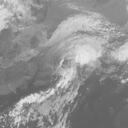cyclone: (53, 30, 100, 83)
